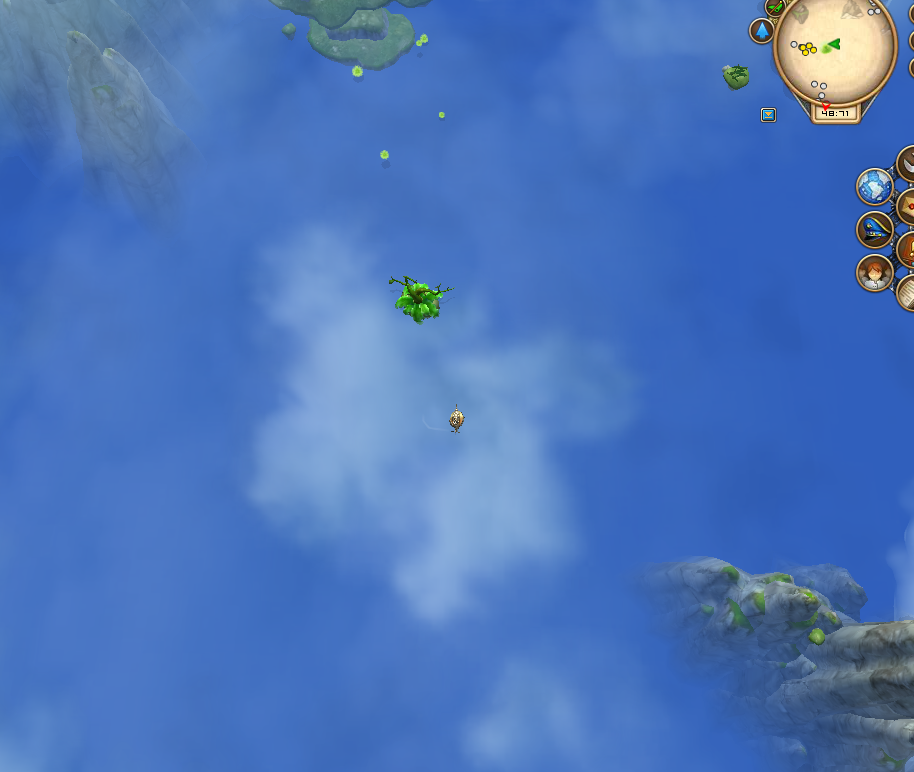dandelion-empty: (384, 270, 456, 326)
fluff: (349, 61, 365, 79), (377, 146, 390, 161), (418, 31, 430, 45), (435, 108, 447, 120), (414, 40, 422, 49)
